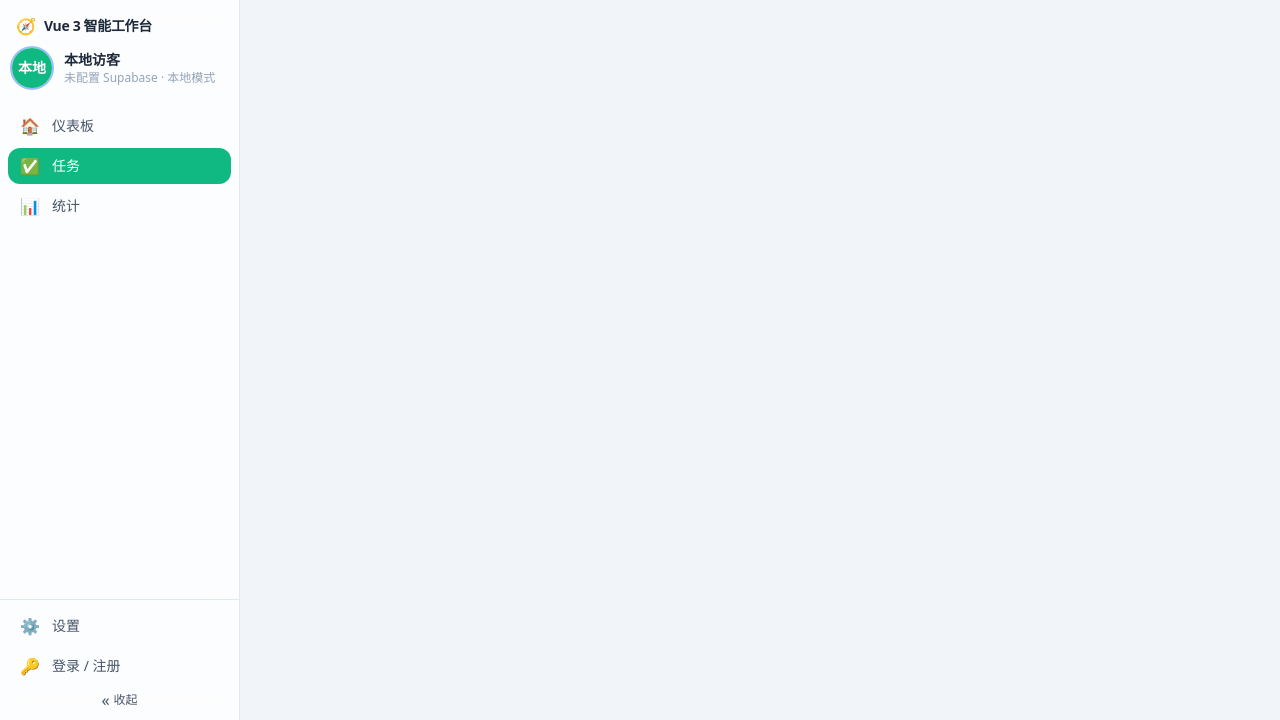
it: SidebarNav › 点头像弹窗渲染在侧边栏之外（aside 的 backdrop-filter 会把 fixed 弹窗困在 240px 里）
Step 1. Click the button with test id "sidebar-avatar" → (32, 68), box [12,48,52,88]
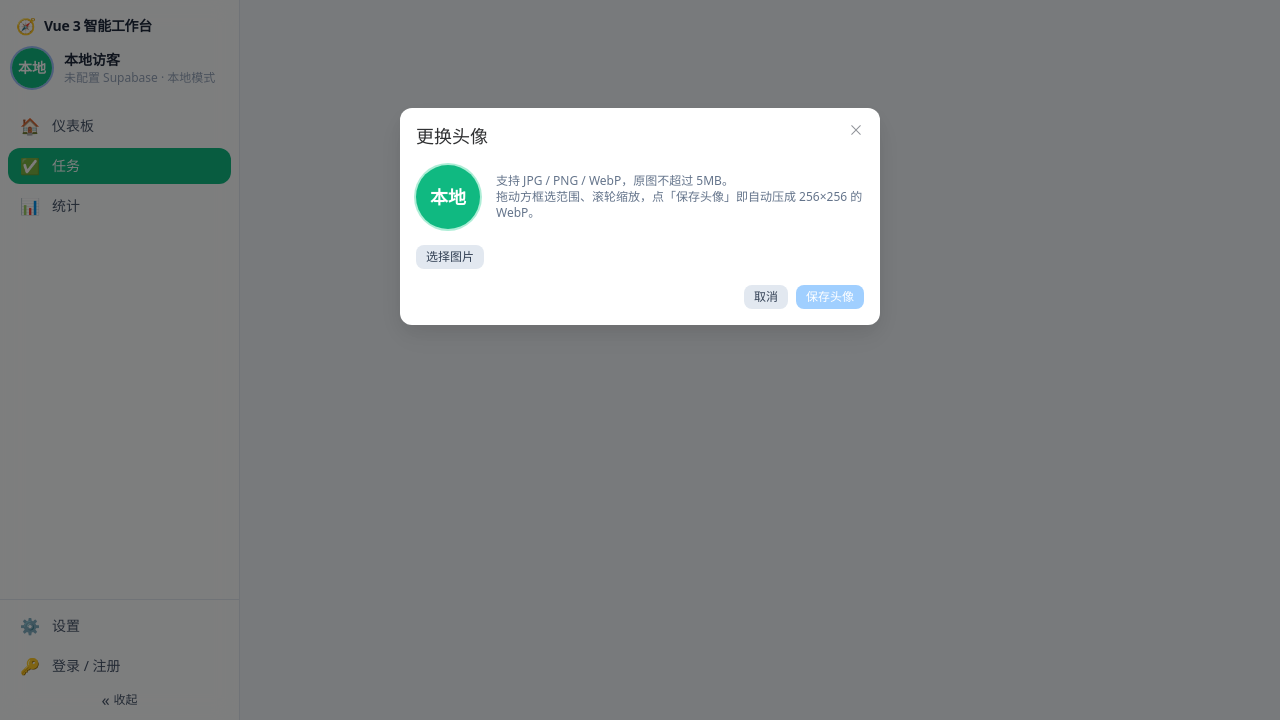
expect the element that starts with "更换头像" is shown: met
